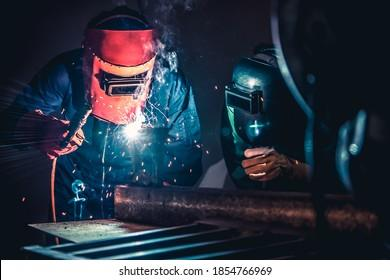gloves: (11, 110, 86, 159), (242, 145, 313, 182)
